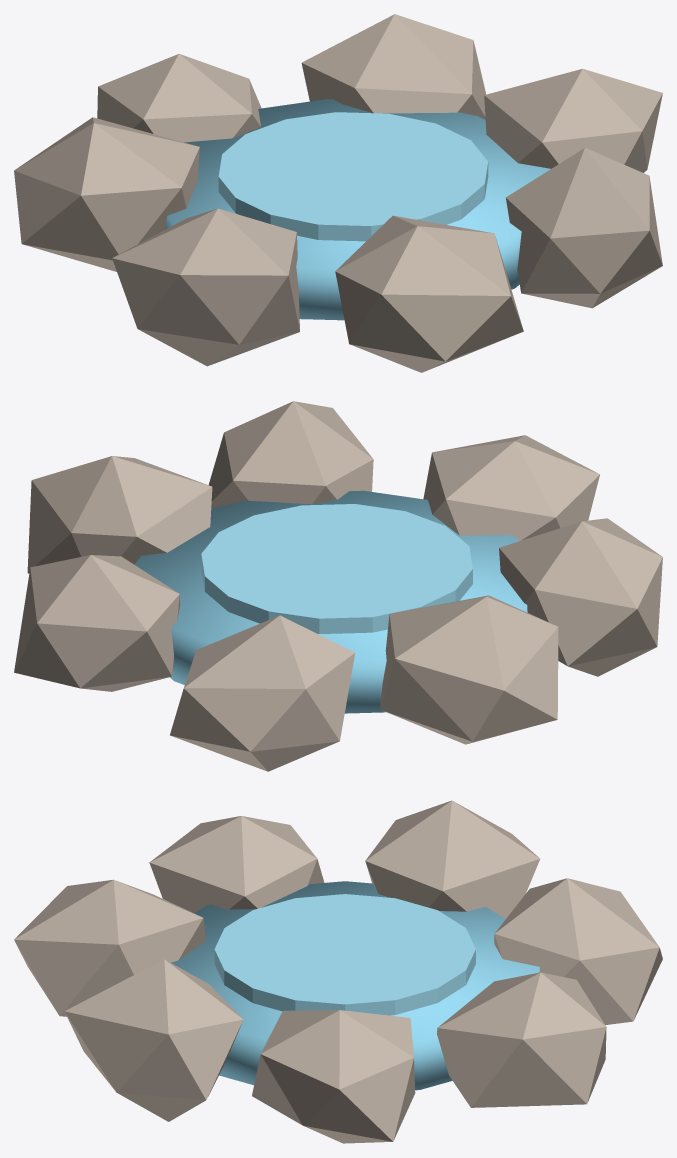
Rendered from GeyserVent.fbx.
3 renders of one model, top to bottom at view 1: azimuth 30°, elevation 25°; view 2: azimuth 150°, elevation 25°; view 3: azimuth 270°, elevation 25°, orthographic. The views are drawn at different scales.
Visible parts, largest first — view 1: Rock.001, Glow, Water; view 2: Rock.001, Glow, Water; view 3: Rock.001, Glow, Water.
Part boxes in pixels (x1,y1,x2,y2): Rock.001: (14,14,662,372); Glow: (218,112,488,241); Water: (165,99,550,320); Rock.001: (14,401,662,771); Glow: (201,504,472,633); Water: (134,490,527,713); Rock.001: (14,800,662,1143); Glow: (214,894,475,1015); Water: (171,881,539,1090).
Size of the model in its own units: 5.93 by 1.61 by 5.96.
